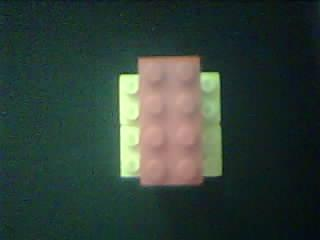lego: (118, 55, 222, 187)
